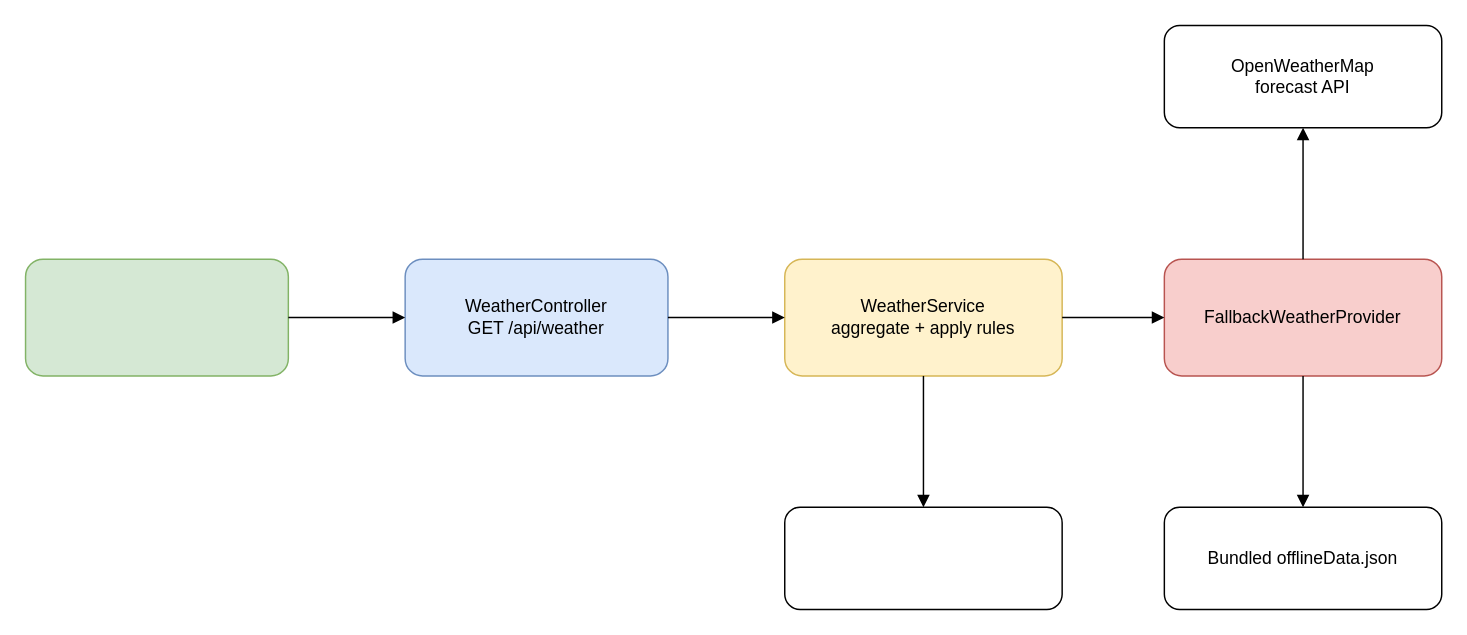
Image size: 1467x635. Some labels were removed from this diagram. Each missing label, with the centre of its shape:
"Browser UI / Postman city + offline toggle" belongs at (156,317).
"WeatherRule strategies rain · heat · wind · storm" belongs at (922,558).
